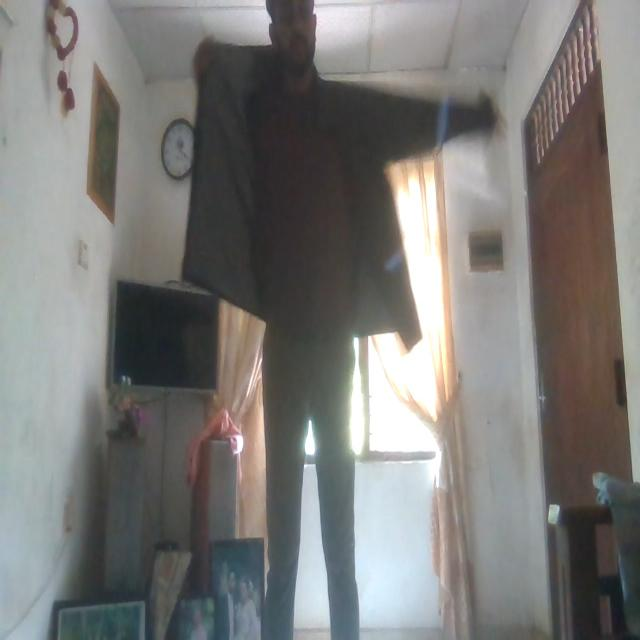Jacket_Wearer: (185, 58, 453, 330)
Person: (234, 0, 388, 640)
